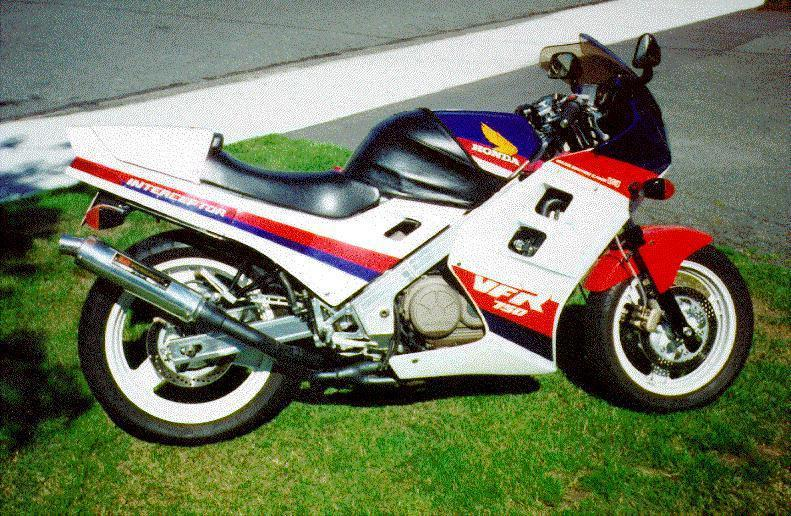motorcycle: (39, 27, 774, 452)
